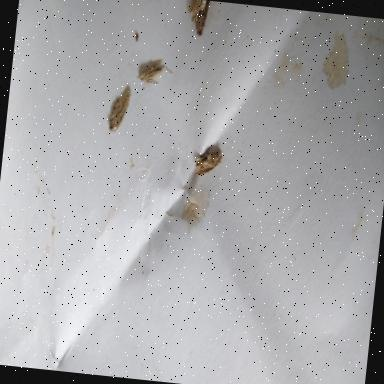pbw: (136, 56, 174, 85), (108, 87, 131, 133), (194, 148, 223, 178), (192, 0, 209, 38)
